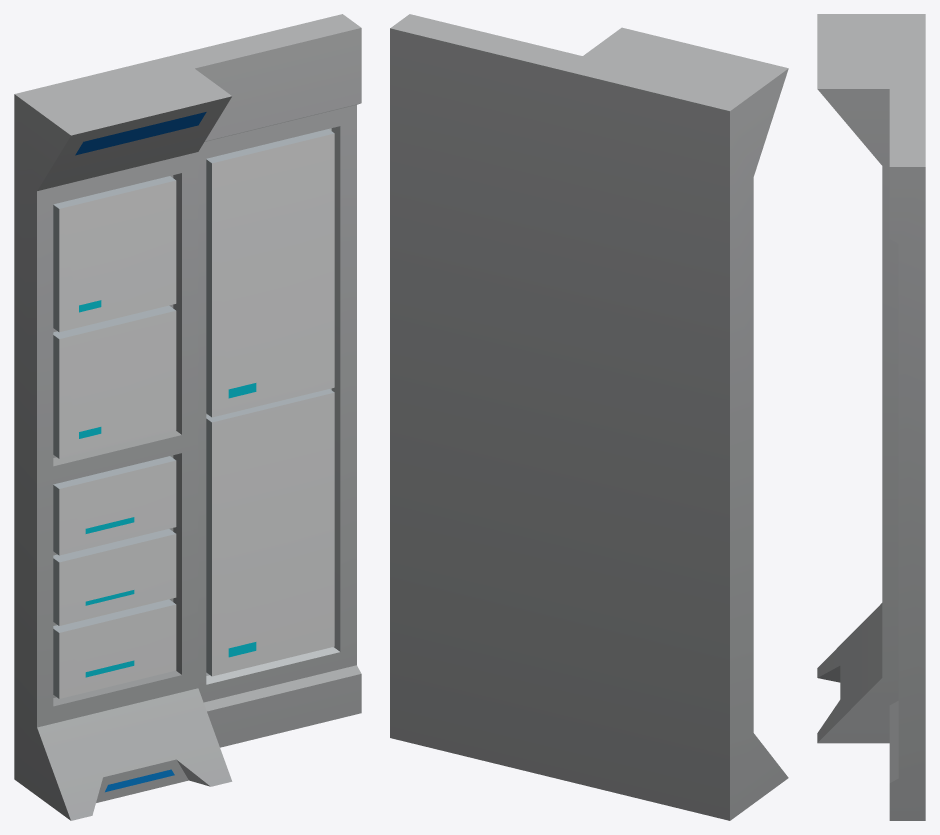
The model's file is Wall_type_A_012.fbx.
3 renders of one model, left to right at view 1: azimuth 30°, elevation 25°; view 2: azimuth 150°, elevation 25°; view 3: azimuth 270°, elevation 25°, orthographic. The views are drawn at different scales.
Parts seen in each view (by area): view 1: Wall_type_A_012; view 2: Wall_type_A_012; view 3: Wall_type_A_012.
Boxes of the visible parts, x1,y1,x2,y2 form: Wall_type_A_012: (14,14,361,820); Wall_type_A_012: (390,14,788,820); Wall_type_A_012: (817,14,925,820).
Bounding box in the file's own units: 200 × 60 × 400.
